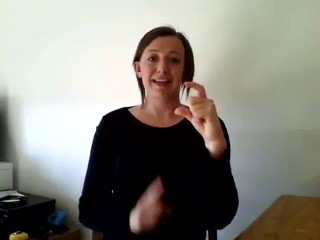C: (173, 76, 224, 140)
